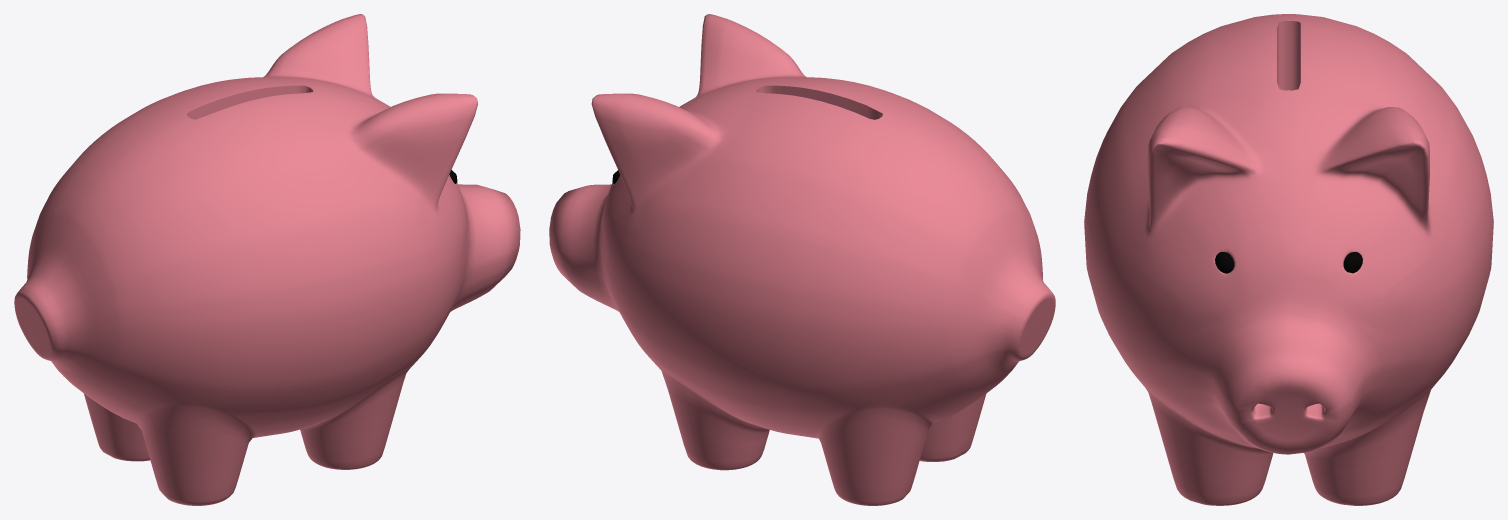
Rendered from Pigy 1.fbx.
The picture shows the model from 3 angles, left to right: view 1: azimuth 30°, elevation 25°; view 2: azimuth 150°, elevation 25°; view 3: azimuth 270°, elevation 25°; orthographic projection. The views are drawn at different scales.
Parts seen in each view (by area): view 1: Pig_body; view 2: Pig_body; view 3: Pig_body.
Part boxes in pixels (left/top/right/bottom): Pig_body: left=14, top=14, right=520, bottom=505; Pig_body: left=549, top=14, right=1055, bottom=505; Pig_body: left=1084, top=14, right=1493, bottom=505.
Bounding box in the file's own units: 546 × 387 × 352.
